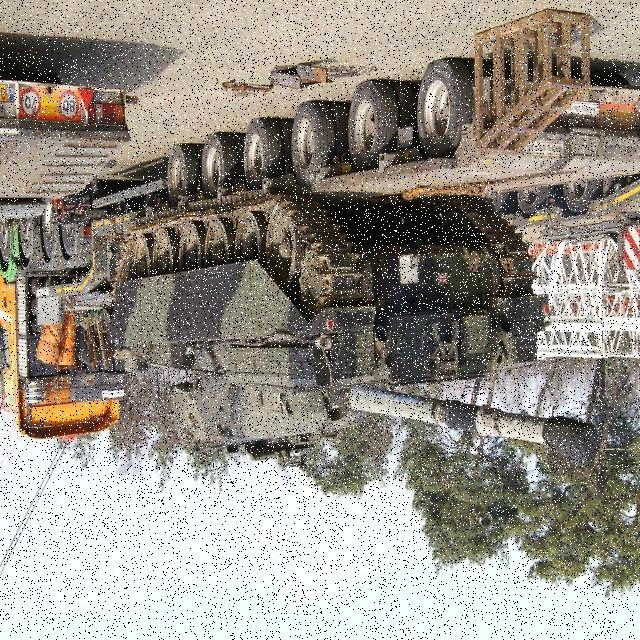MIL_MBT: (108, 208, 602, 484)
